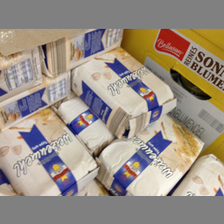flour: (71, 47, 178, 140), (96, 114, 204, 196), (1, 106, 100, 195)
